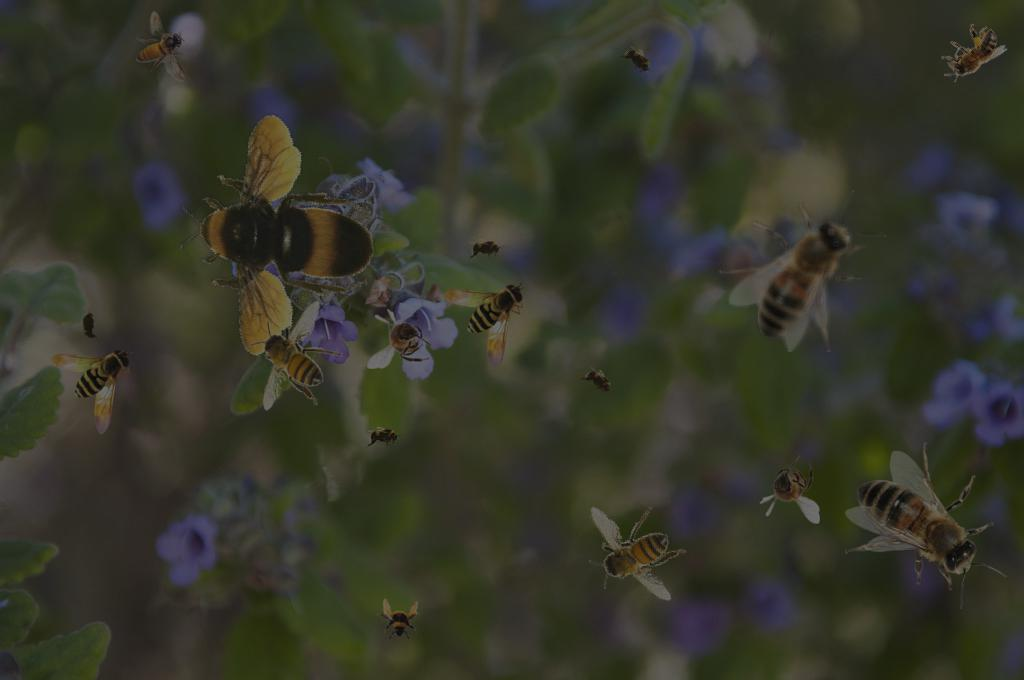Bee: (145, 91, 405, 368), (719, 190, 886, 352), (845, 442, 1007, 609), (562, 484, 703, 616), (249, 300, 343, 411), (444, 282, 526, 370), (51, 347, 133, 435), (930, 15, 1010, 94), (759, 454, 820, 524), (367, 308, 437, 369), (136, 11, 186, 82), (576, 360, 622, 404), (615, 39, 661, 83), (376, 598, 420, 642), (79, 305, 101, 345), (466, 238, 506, 260), (364, 426, 404, 448)
